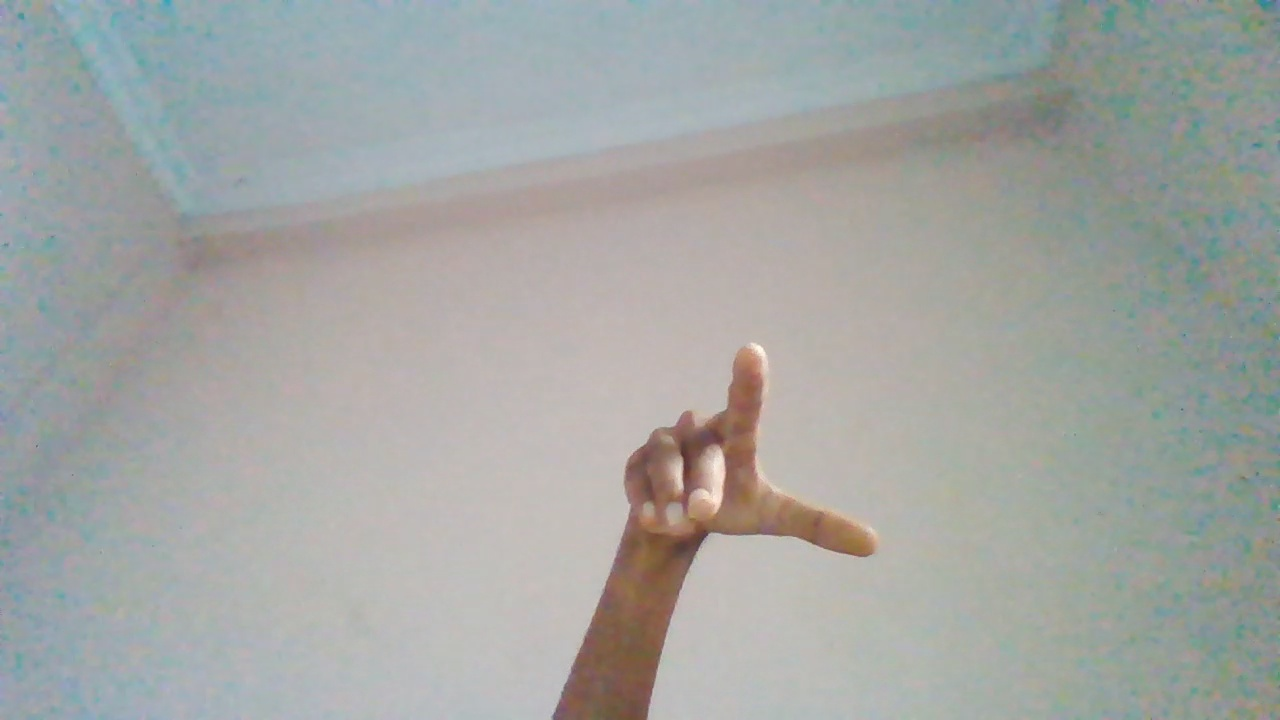ke: (616, 341, 875, 685)
